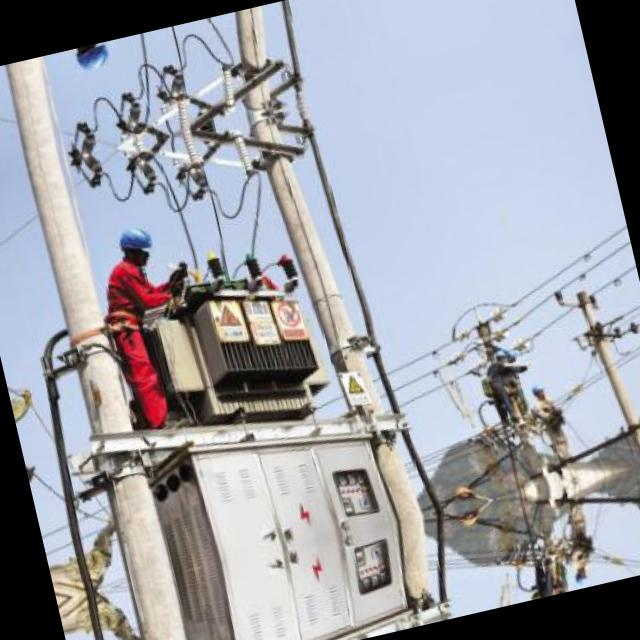helmet: (110, 218, 157, 272), (69, 41, 114, 81), (528, 378, 550, 401), (570, 564, 592, 586), (491, 344, 509, 365)
